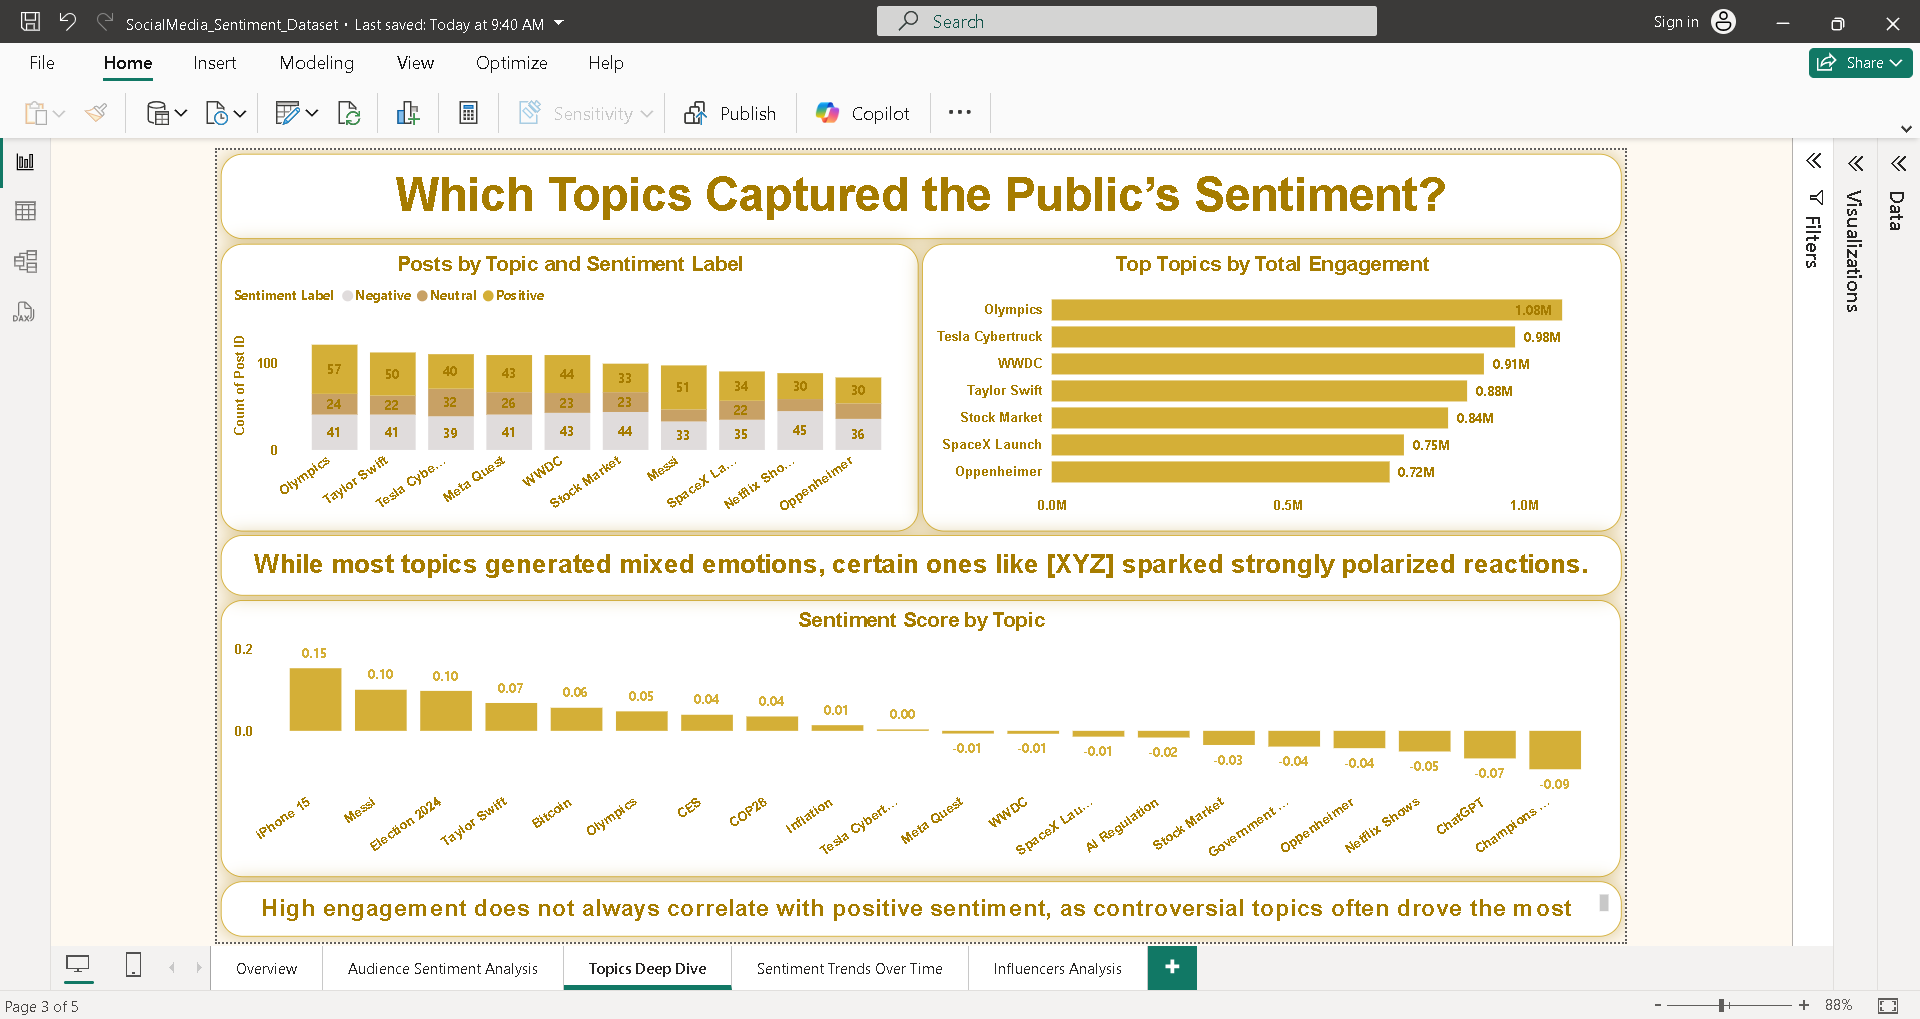

The dashboard page shown, as its layout file describes it:
{"tool":"powerbi","page":{"name":"Topics Deep Dive","canvas":[1280,720],"ordinal":2},"visuals":[{"type":"textbox","box":[3.4,3.4,1273.6,77.8],"z":0},{"type":"columnChart","title":"Posts by Topic and Sentiment Label","fields":{"Category":["Dim_Topics.Topic Name"],"Series":["Fact_sentiment.Sentiment Label"],"Y":["Fact_sentiment.Post ID"]},"box":[3.4,85.7,634.6,261.5],"z":1000},{"type":"barChart","title":"Top Topics by Total Engagement","fields":{"Category":["Dim_Topics.Topic Name"],"Y":["_Measures.Total Engagement"]},"box":[641.3,85.7,635.7,261.5],"z":2000},{"type":"clusteredColumnChart","title":"Sentiment Score by Topic","fields":{"Category":["Dim_Topics.Topic Name"],"Y":["Fact_sentiment.Sentiment Score"]},"box":[3.7,409.4,1272.8,252.3],"z":3000},{"type":"textbox","box":[3.4,350.5,1273.6,55.2],"z":4000},{"type":"textbox","box":[3.4,665,1273.6,50.7],"z":5000}]}

Visuals, with their boxes on the page's 1280x720 design canvas (x1, y1, x2, y2). These are canvas units, not pixel positions in the 1920x1019 screenshot, which may show the page scaled, cropped or inside an application window:
textbox: Rect(3, 3, 1277, 81)
"Posts by Topic and Sentiment Label" columnChart: Rect(3, 86, 638, 347)
"Top Topics by Total Engagement" barChart: Rect(641, 86, 1277, 347)
"Sentiment Score by Topic" clusteredColumnChart: Rect(4, 409, 1276, 662)
textbox: Rect(3, 350, 1277, 406)
textbox: Rect(3, 665, 1277, 716)
